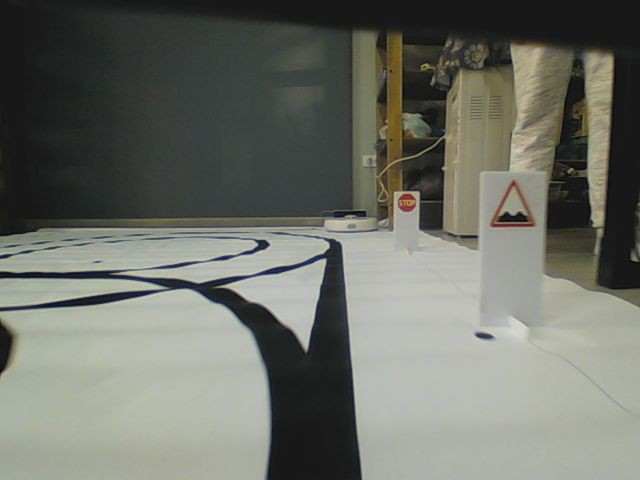Nerov: (489, 179, 536, 229)
Stop: (397, 192, 418, 214)
